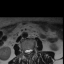CCS_normal: (27, 47, 29, 56)
LFS_normal: (31, 46, 34, 53)
LLS_normal: (29, 47, 32, 54)
RFS_normal: (23, 47, 25, 55)
RLS_normal: (25, 47, 27, 55)
